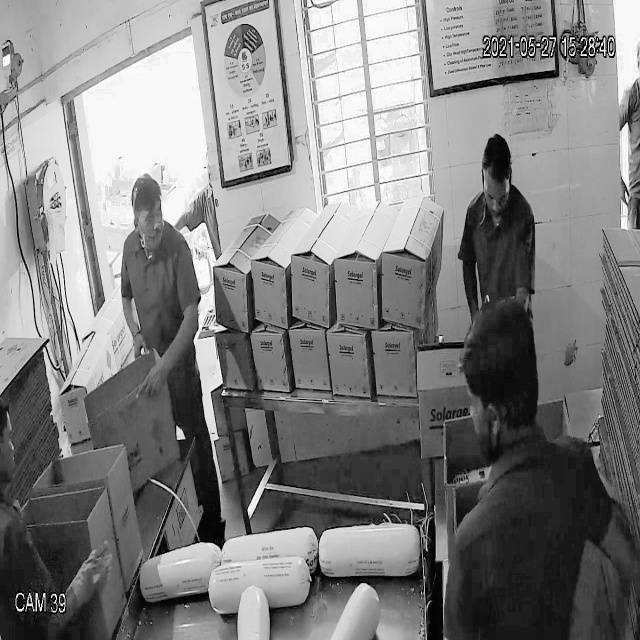Sin_gafas: (479, 184, 512, 212), (131, 203, 164, 228)
